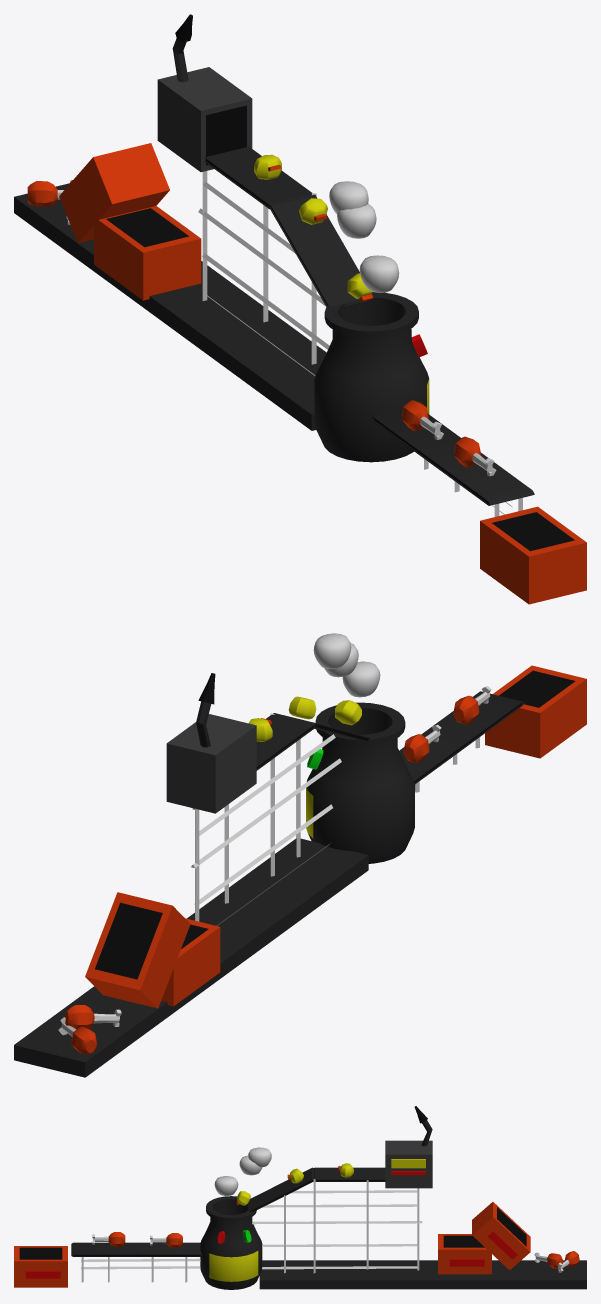
File: Maquinaapollo.fbx
3 views of the same model, one above another, from view 1: azimuth 30°, elevation 25°; view 2: azimuth 150°, elevation 25°; view 3: azimuth 270°, elevation 25° (orthographic). The views are drawn at different scales.
Parts seen in each view (by area): view 1: Mesh; view 2: Mesh; view 3: Mesh.
Boxes of the visible parts, box(x1,y1,x2,y2) form: Mesh: box(14, 14, 586, 604); Mesh: box(14, 633, 586, 1077); Mesh: box(14, 1106, 586, 1289).
Size of the model in its own units: 1550 by 4681 by 14028.
